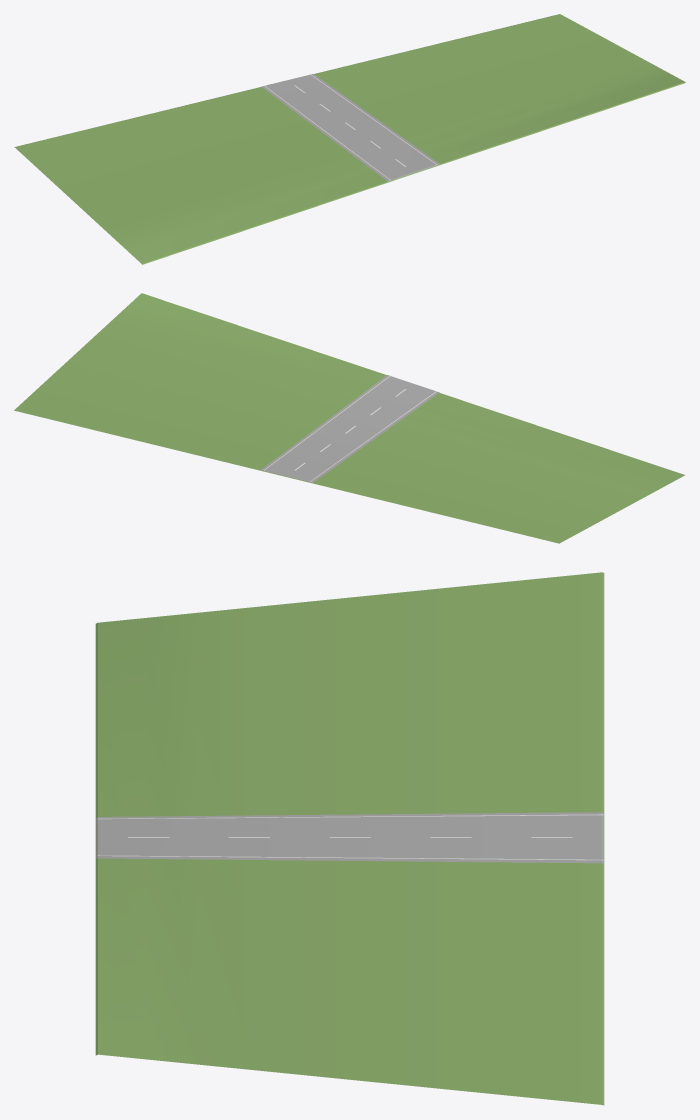
Rendered from road_rightLean5.fbx.
3 views of the same model, one above another, from view 1: azimuth 30°, elevation 25°; view 2: azimuth 150°, elevation 25°; view 3: azimuth 270°, elevation 25° (orthographic). The views are drawn at different scales.
Visible parts, largest first — view 1: grass1, road_leanR, stuff14; view 2: grass1, road_leanR, stuff14; view 3: grass1, road_leanR, stuff14.
Boxes of the visible parts, x1,y1,x2,y2 form: grass1: [14, 14, 685, 264]; road_leanR: [261, 74, 439, 181]; stuff14: [264, 74, 436, 180]; grass1: [14, 293, 684, 543]; road_leanR: [261, 375, 439, 482]; stuff14: [264, 375, 436, 481]; grass1: [95, 572, 604, 1105]; road_leanR: [96, 812, 603, 863]; stuff14: [97, 814, 603, 860].
Bounding box in the file's own units: 25 × 2.19 × 10.09.
